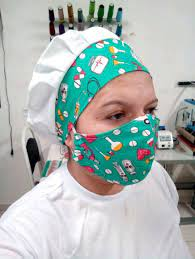with_mask_and_cap: (52, 34, 159, 188)
